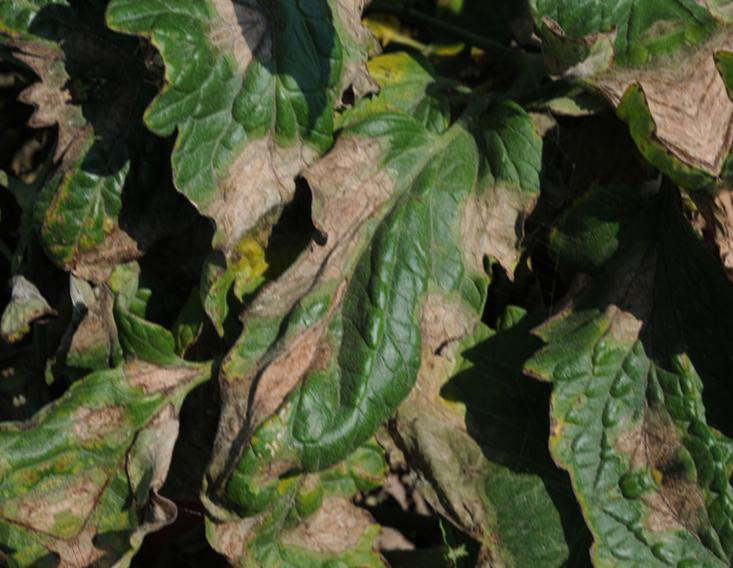Tomato leaf late blight: (97, 65, 648, 551), (110, 0, 465, 282), (467, 193, 733, 515), (13, 317, 304, 568), (524, 0, 733, 297), (465, 0, 663, 88)
